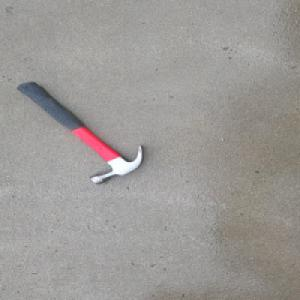Hammer: (15, 81, 146, 185)
